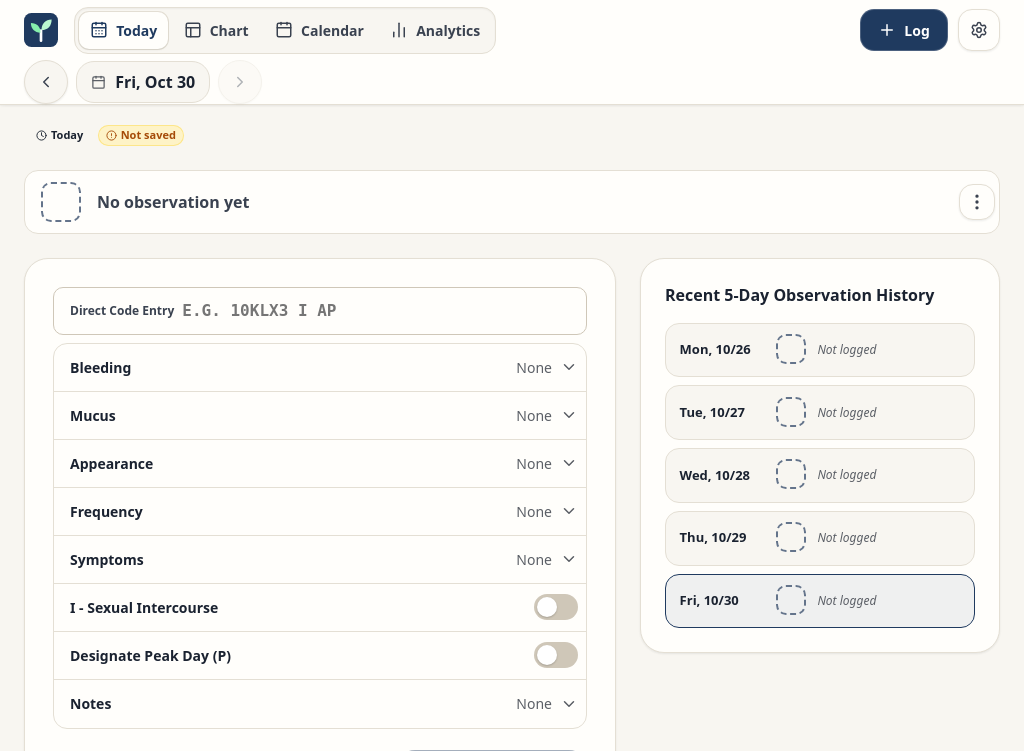
Test: App error boundaries › keeps the layout and shows a reload alert when a lazy page fails
This screenshot has width=1024, height=751.
Click the tab with aria-label "Cycle Analytics". click: (435, 30)
box: [379,12,491,48]
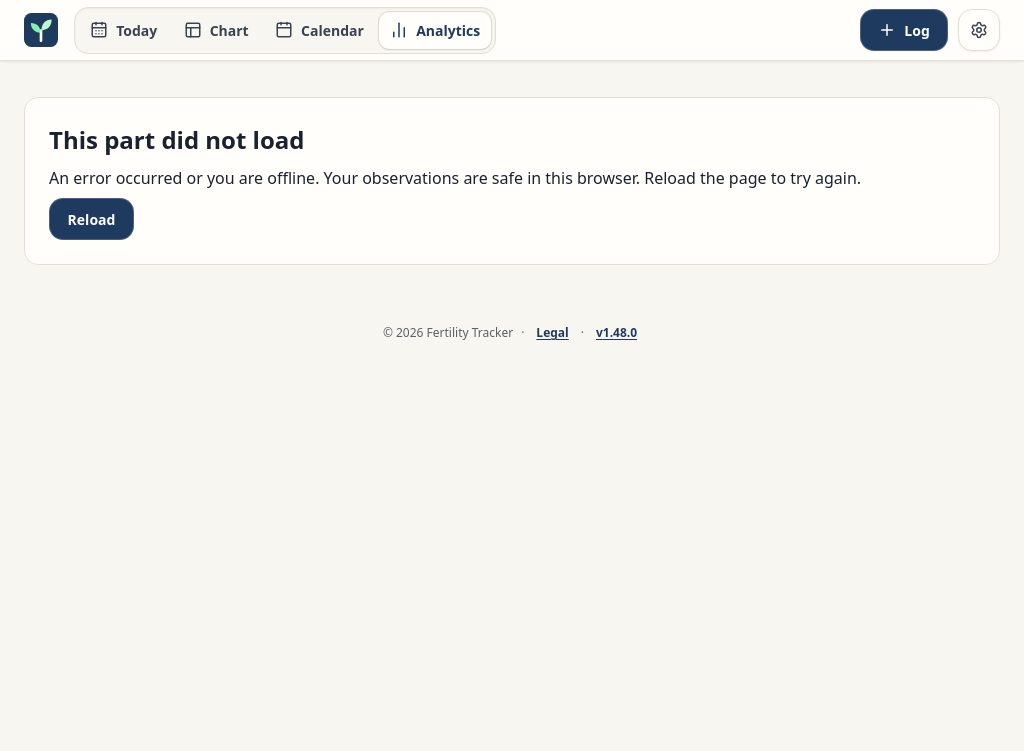
Expected: the header is shown, [0,0,1023,61]
Expected: the message shows "This part did not load", [49,123,304,156]
